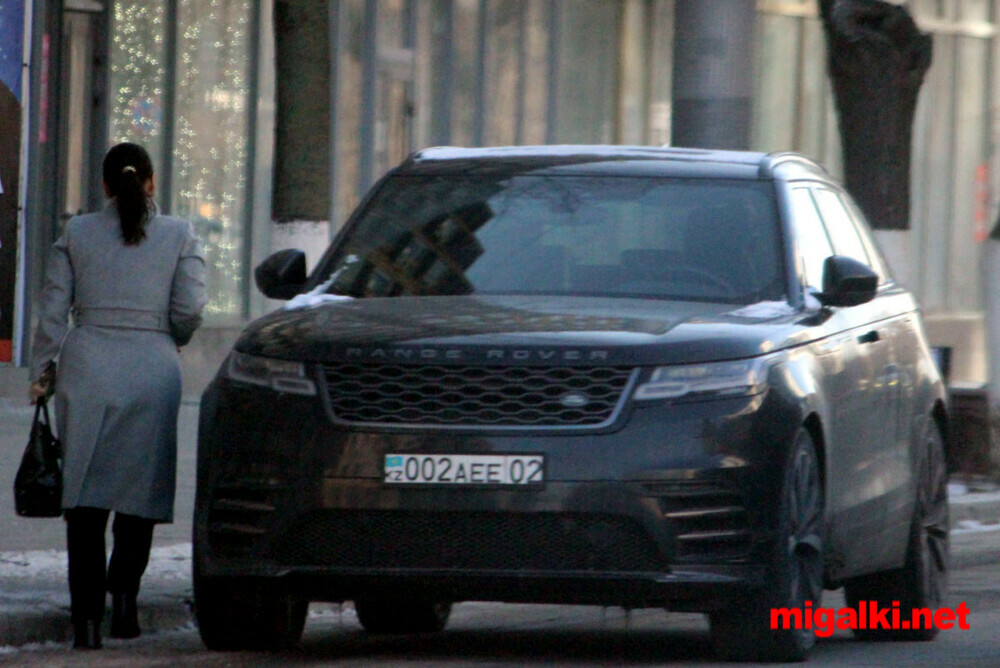license_plate: (382, 452, 548, 488)
